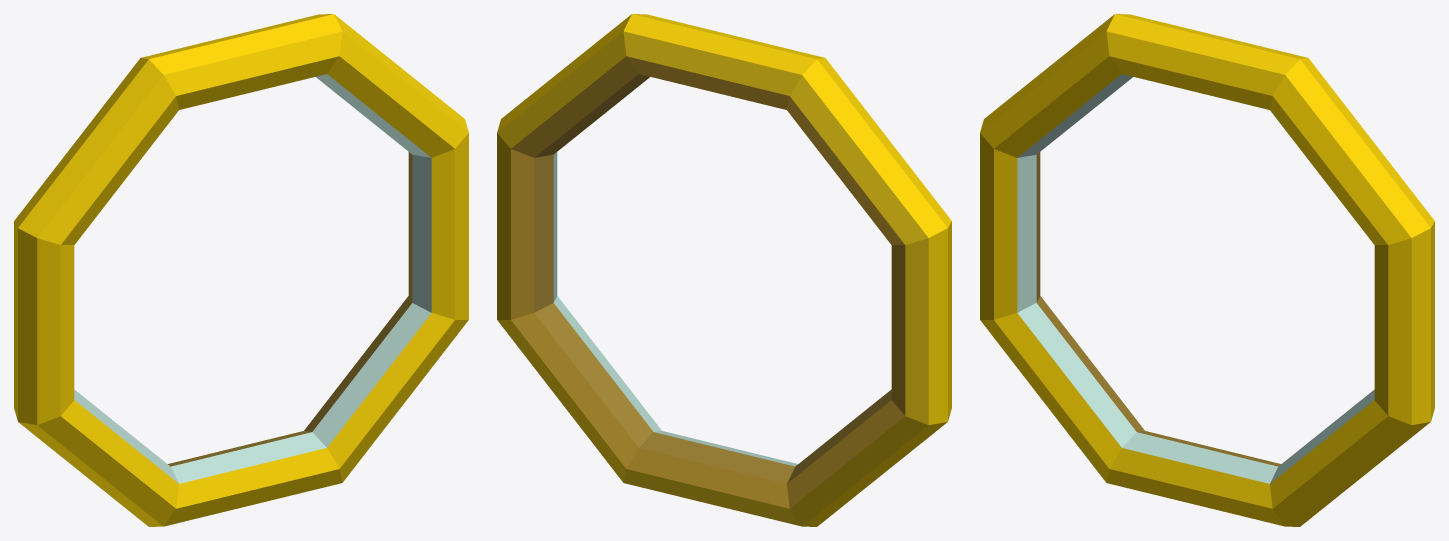
The model's file is Magnifying Glass Frame.gltf.
3 views of the same model, side by side, from view 1: azimuth 30°, elevation 25°; view 2: azimuth 150°, elevation 25°; view 3: azimuth 330°, elevation 25° (orthographic).
Visible parts, largest first — view 1: torus; view 2: torus; view 3: torus.
Boxes of the visible parts, <box> form: torus: <box>14,14,468,526</box>; torus: <box>497,14,951,526</box>; torus: <box>980,14,1434,526</box>.
Size of the model in its own units: 1.06 by 1.06 by 0.1353.
1 material, 1 textured.
